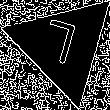L_S: (41, 17, 85, 75)
